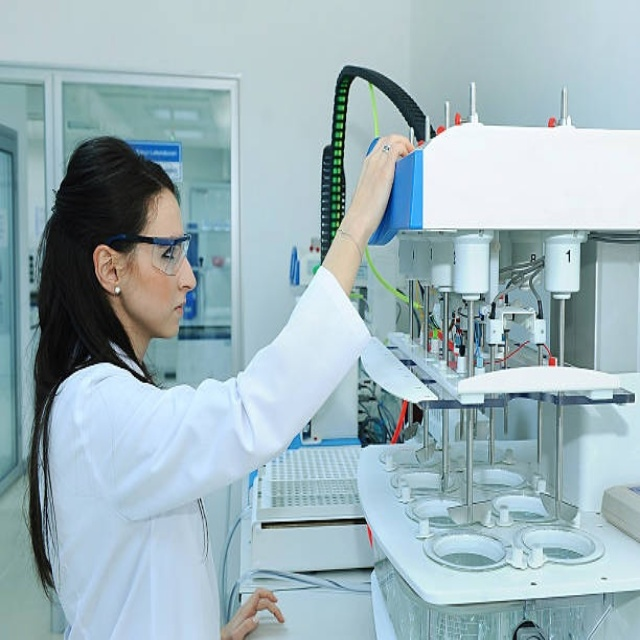Gafas: (104, 233, 193, 275)
Sin_guantes: (347, 126, 416, 230), (222, 591, 283, 640)
Sin_mascara: (156, 290, 188, 334)
